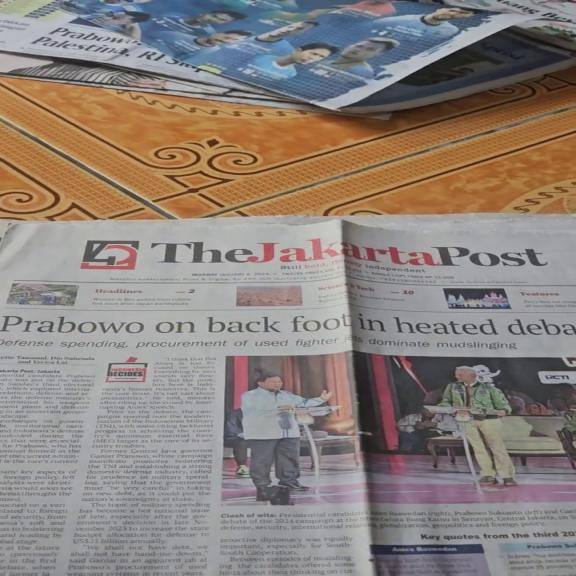Kertas: (11, 220, 569, 574)
